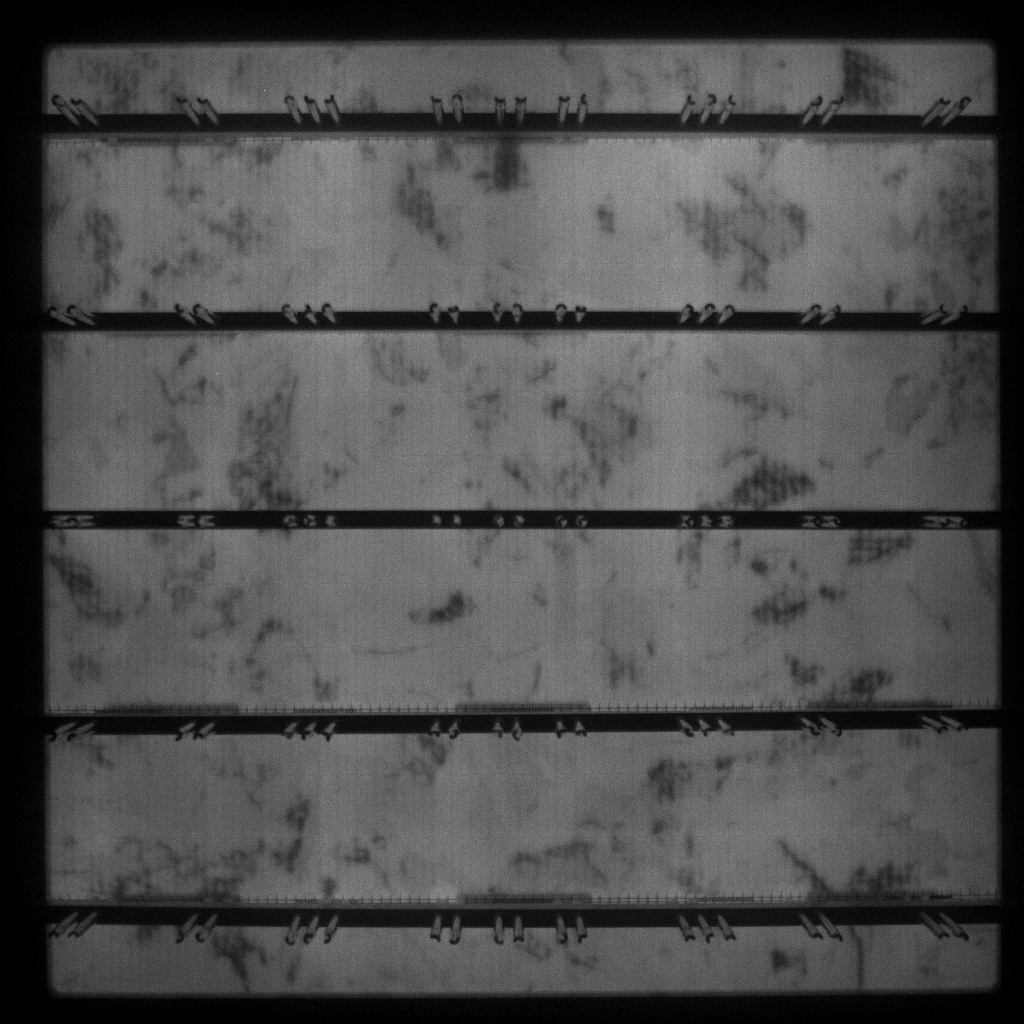crack: (775, 836, 841, 895), (847, 930, 867, 990)
